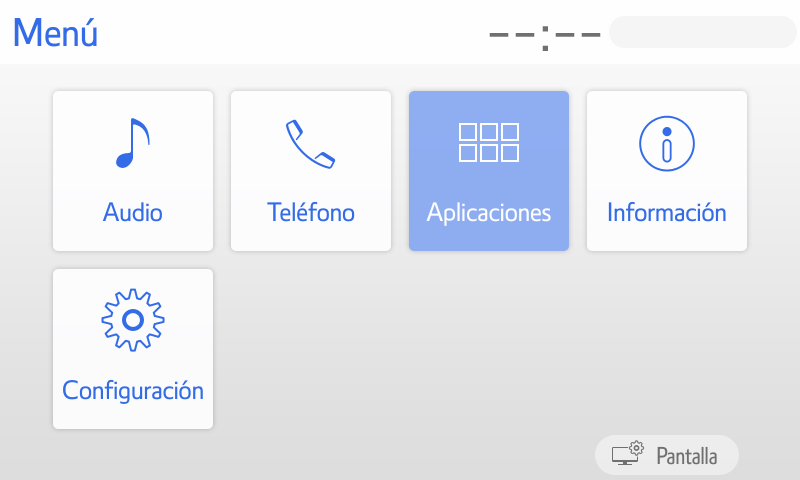touchPart: (47, 263, 226, 439), (579, 83, 758, 257), (49, 87, 219, 255), (225, 86, 393, 256), (406, 87, 571, 258), (585, 423, 754, 477)
untouchPart: (470, 7, 796, 54), (12, 12, 110, 51)
